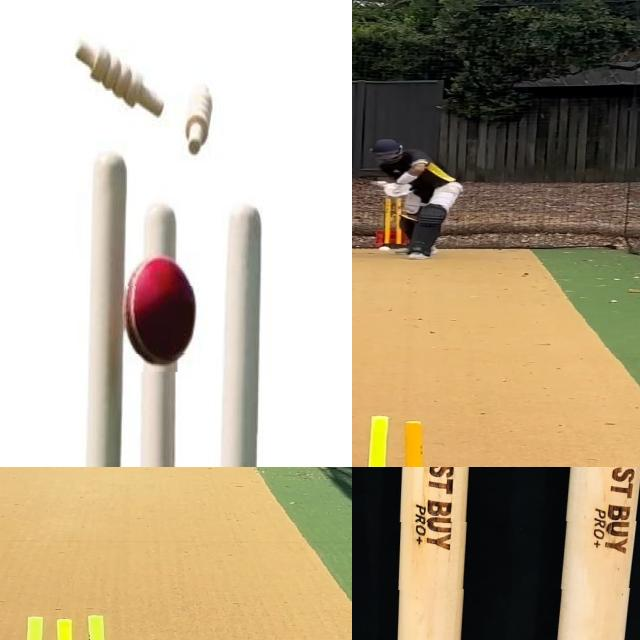Cricket ball: (124, 252, 197, 372), (377, 246, 392, 254)
Stumps: (352, 467, 640, 640)
